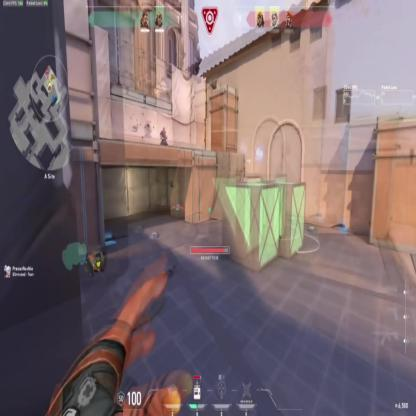enemy: (159, 125, 169, 148)
enemy_head: (162, 127, 165, 132)
